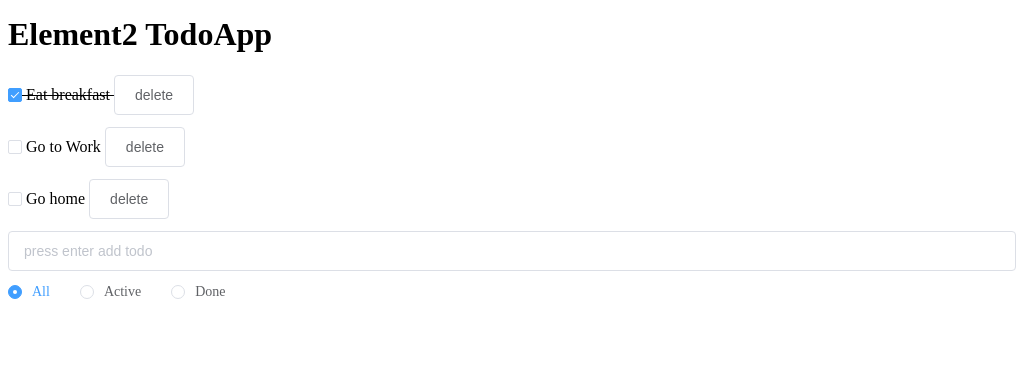
Behavioral › should add new one
The image size is (1024, 370).
Type "Hungry" into the field with test id "todo-input" showing "press enter add todo".
click(512, 251); type("Hungry")  # box [8, 231, 1016, 271]
Then press Enter
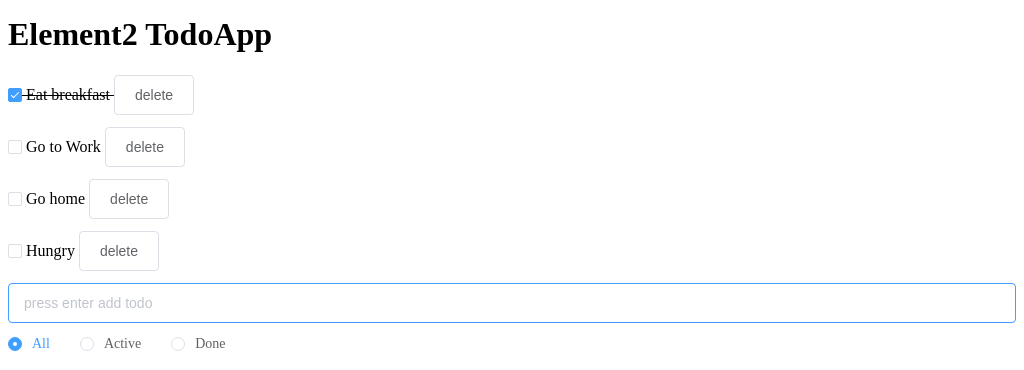
Result: the element with test id "todo-app" shows "Hungry"
